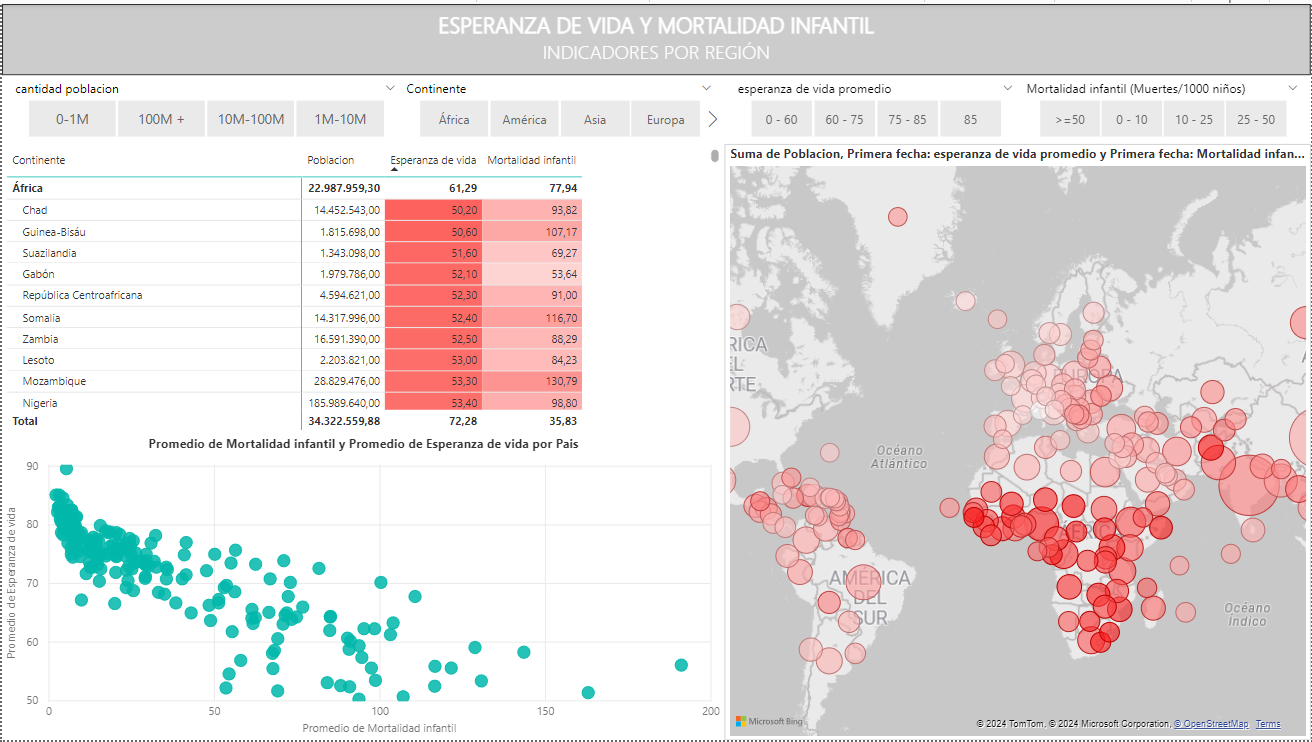

This screenshot's page, from the dashboard's own definition file:
{"tool":"powerbi","page":{"name":"Indicadores Mundiales","canvas":[1280,720],"ordinal":1},"visuals":[{"type":"pivotTable","fields":{"Values":["Avg(Population.Poblacion)","Avg(Esperanza de vida.Esperanza de vida)","Avg(Mortalidad infantil.Mortalidad infantil)"],"Rows":["Paises.Continente","Paises.Pais"]},"box":[0,136.9,706.6,284.8],"z":0},{"type":"slicer","title":"Cantidad de población","fields":{"Values":["Poblacion.cantidad poblacion"]},"box":[0,69.4,397.3,67.2],"z":1000},{"type":"slicer","title":"Continente","fields":{"Values":["Paises.Continente"]},"box":[382.6,69.4,323.9,67.2],"z":2000},{"type":"map","fields":{"Size":["Sum(Poblacion.Poblacion)"],"Category":["Paises.Continente Jerarquía.Continente","Paises.Continente Jerarquía.Pais"]},"box":[706.6,136.9,573.3,583.1],"z":3000},{"type":"slicer","title":"Continente","fields":{"Values":["Esperanza de vida.esperanza de vida promedio"]},"box":[706.6,69.4,294.6,67.2],"z":4000},{"type":"slicer","title":"Continente","fields":{"Values":["Mortalidad infantil.Mortalidad infantil (Muertes/1000 niños)"]},"box":[988.9,69.4,290.9,67.2],"z":5000},{"type":"scatterChart","fields":{"X":["Avg(Mortalidad infantil.Mortalidad infantil)"],"Y":["Avg(Esperanza de vida.Esperanza de vida)"],"Category":["Paises.Pais"]},"box":[0,422,707,298],"z":6000},{"type":"shape","box":[0,0,1279.9,69.7],"z":7000},{"type":"textbox","box":[0,0,1279.9,69.7],"z":8000}]}

Visuals, with their boxes in screenshot pixels (x1, y1, x2, y2), scaled from the page's 1280x720 canvas onto the 1312x742 screenshot:
pivotTable - Avg(Population.Poblacion) x Avg(Esperanza de vida.Esperanza de vida): x1=0, y1=141, x2=724, y2=435
"Cantidad de población" slicer: x1=0, y1=72, x2=407, y2=141
"Continente" slicer: x1=392, y1=72, x2=724, y2=141
map - Sum(Poblacion.Poblacion) x Paises.Continente Jerarquía.Continente: x1=724, y1=141, x2=1311, y2=741
"Continente" slicer: x1=724, y1=72, x2=1026, y2=141
"Continente" slicer: x1=1014, y1=72, x2=1311, y2=141
scatterChart - Avg(Mortalidad infantil.Mortalidad infantil) x Avg(Esperanza de vida.Esperanza de vida): x1=0, y1=435, x2=725, y2=741
shape: x1=0, y1=0, x2=1311, y2=72
textbox: x1=0, y1=0, x2=1311, y2=72
